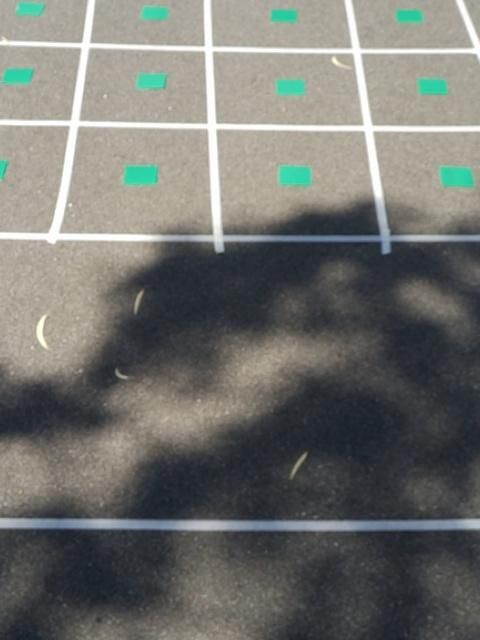weed: (122, 163, 158, 188), (438, 166, 474, 191), (278, 163, 313, 187), (0, 65, 36, 85), (274, 76, 306, 98), (414, 76, 450, 94), (14, 0, 47, 16), (135, 72, 166, 89), (268, 7, 298, 24), (392, 8, 425, 23), (139, 5, 167, 22), (0, 158, 8, 180)
